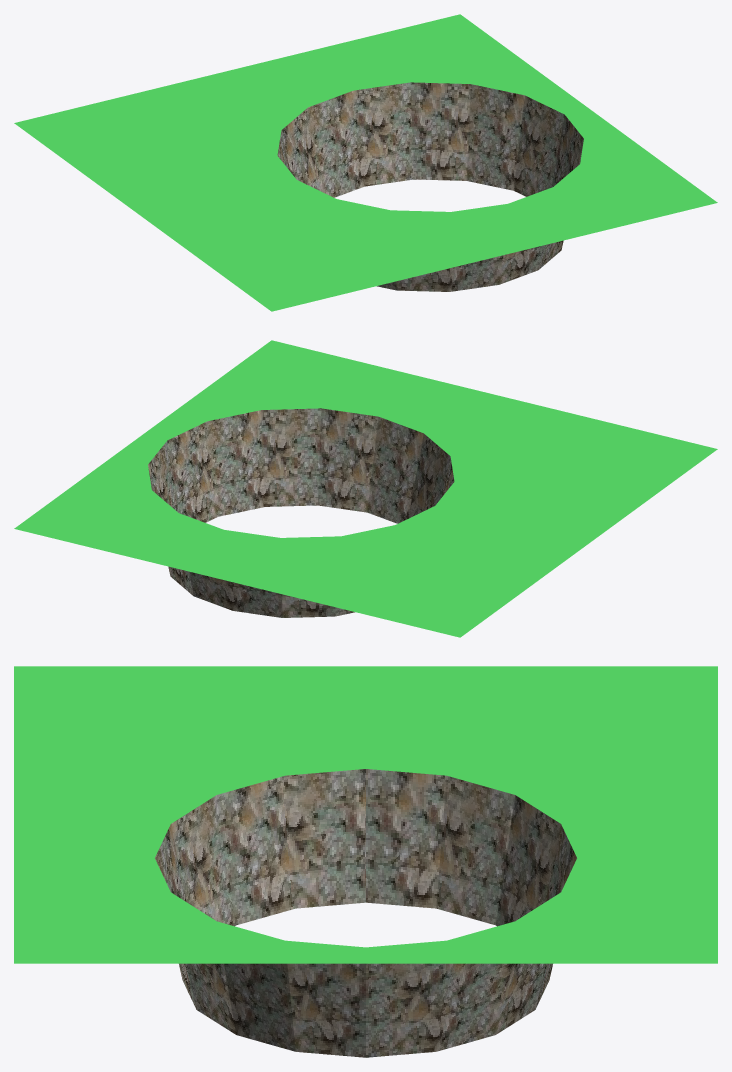
File: level_main_uv.fbx
3 renders of one model, top to bottom at view 1: azimuth 30°, elevation 25°; view 2: azimuth 150°, elevation 25°; view 3: azimuth 270°, elevation 25°, orthographic. The views are drawn at different scales.
Parts seen in each view (by area): view 1: Plane; view 2: Plane; view 3: Plane.
Boxes of the visible parts, x1,y1,x2,y2 form: Plane: [14, 14, 717, 311]; Plane: [14, 340, 717, 637]; Plane: [14, 666, 717, 1057].
Size of the model in its own units: 5000 by 951 by 5000.
